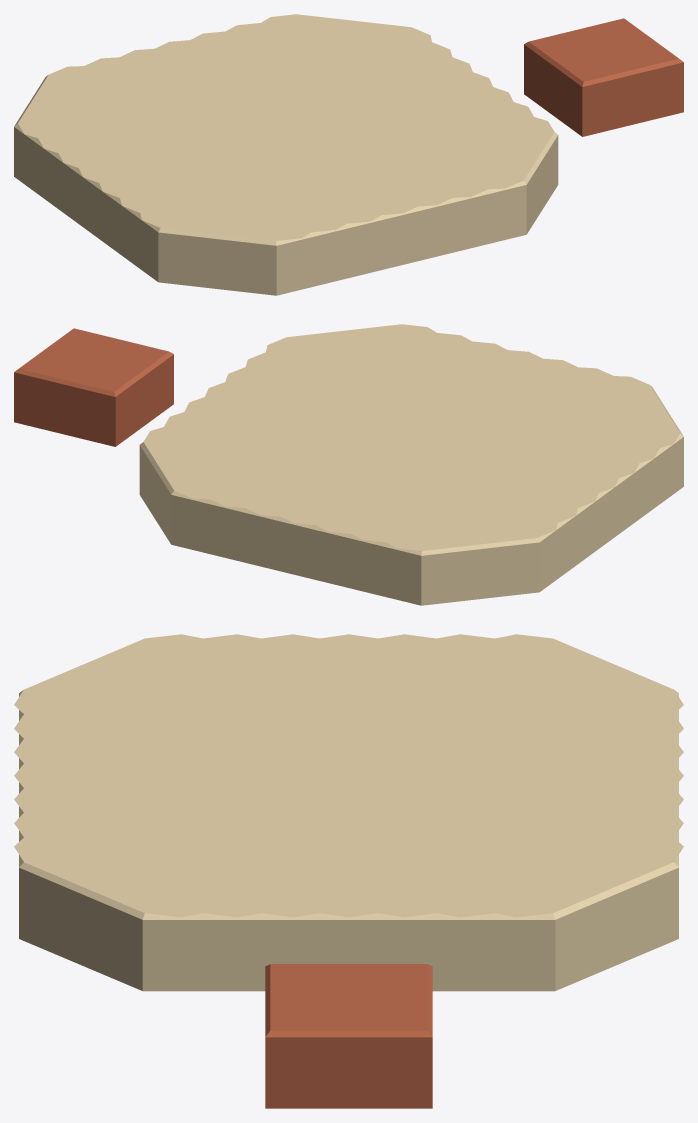
Rendered from mahsulot.glb.
3 views of the same model, one above another, from view 1: azimuth 30°, elevation 25°; view 2: azimuth 150°, elevation 25°; view 3: azimuth 270°, elevation 25° (orthographic). The views are drawn at different scales.
Parts seen in each view (by area): view 1: mahsulot_A, mahsulot_B; view 2: mahsulot_A, mahsulot_B; view 3: mahsulot_A, mahsulot_B.
Boxes of the visible parts, bbox=[...] form: mahsulot_A: bbox=[14, 14, 558, 295]; mahsulot_B: bbox=[524, 18, 683, 136]; mahsulot_A: bbox=[139, 324, 683, 605]; mahsulot_B: bbox=[14, 328, 173, 446]; mahsulot_A: bbox=[14, 634, 683, 991]; mahsulot_B: bbox=[265, 964, 432, 1108].
Size of the model in its own units: 0.2815 by 0.025 by 0.2.
